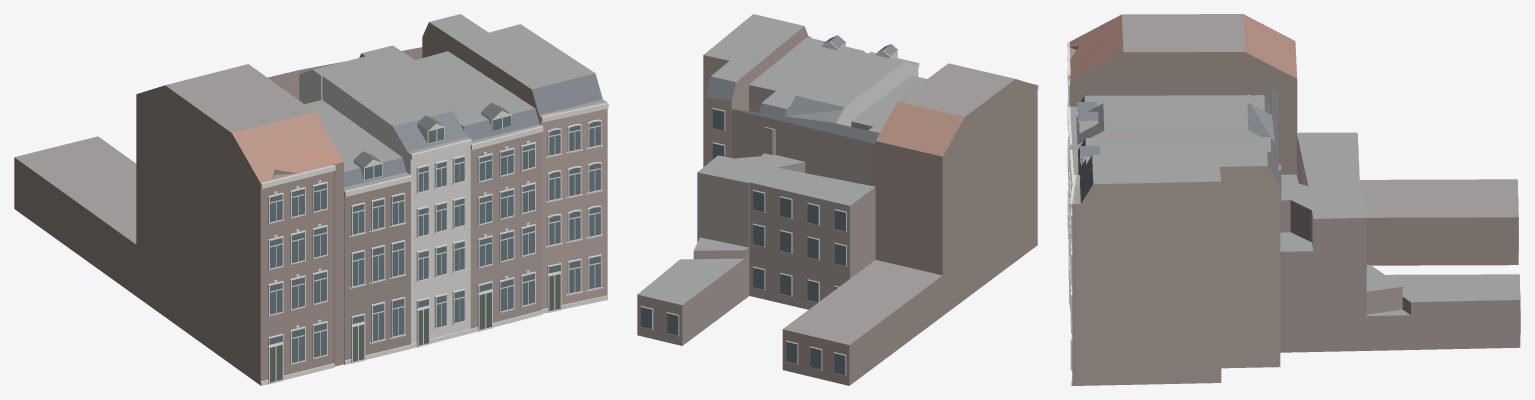
Rendered from chunk-face-lauriergracht-62-110-h2.glb.
3 views of the same model, side by side, from view 1: azimuth 30°, elevation 25°; view 2: azimuth 150°, elevation 25°; view 3: azimuth 270°, elevation 25° (orthographic). The views are drawn at different scales.
Visible parts, largest first — view 1: face-lauriergracht-62-110-h2; view 2: face-lauriergracht-62-110-h2; view 3: face-lauriergracht-62-110-h2.
Part boxes in pixels (bbox=[...]): face-lauriergracht-62-110-h2: bbox=[14, 14, 608, 385]; face-lauriergracht-62-110-h2: bbox=[637, 14, 1038, 385]; face-lauriergracht-62-110-h2: bbox=[1067, 14, 1520, 385].
Size of the model in its own units: 26.68 by 16.78 by 32.21.
